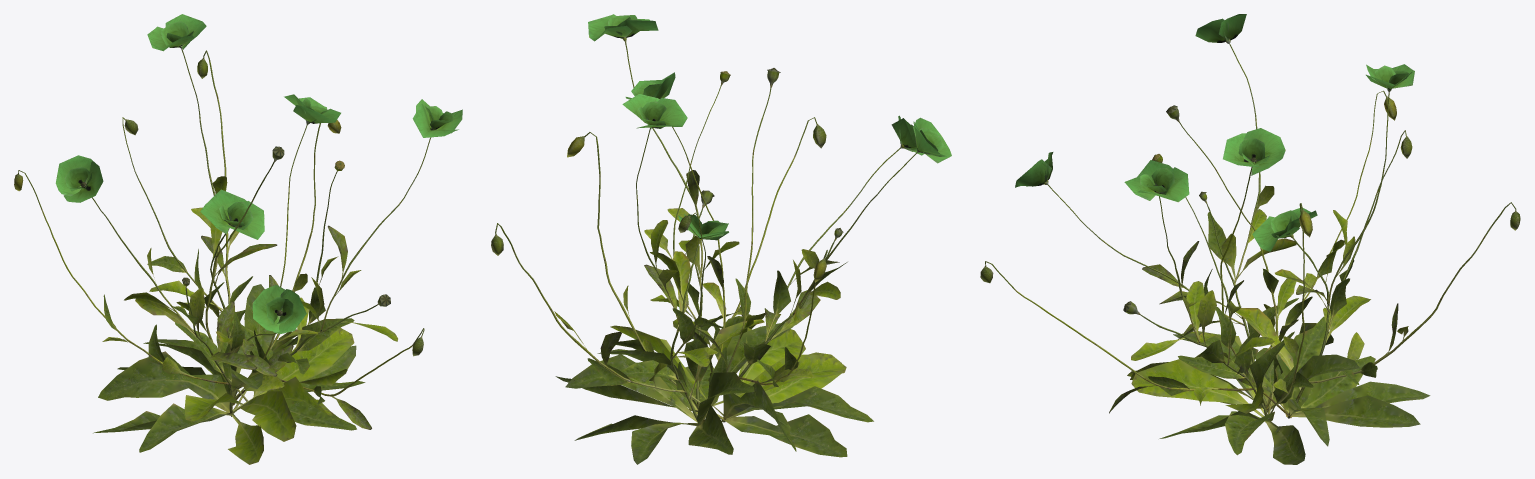
The model's file is Poppy_bush_long_greenyellow.glb.
The picture shows the model from 3 angles, left to right: view 1: azimuth 30°, elevation 25°; view 2: azimuth 150°, elevation 25°; view 3: azimuth 270°, elevation 25°; orthographic projection. The views are drawn at different scales.
Visible parts, largest first — view 1: large bush; view 2: large bush; view 3: large bush.
Part boxes in pixels (x1,y1,x2,y2): large bush: [14, 14, 462, 464]; large bush: [491, 14, 951, 464]; large bush: [980, 14, 1520, 464].
Size of the model in its own units: 6 by 5.32 by 7.44.
Materials: 1 (1 with a texture image).
